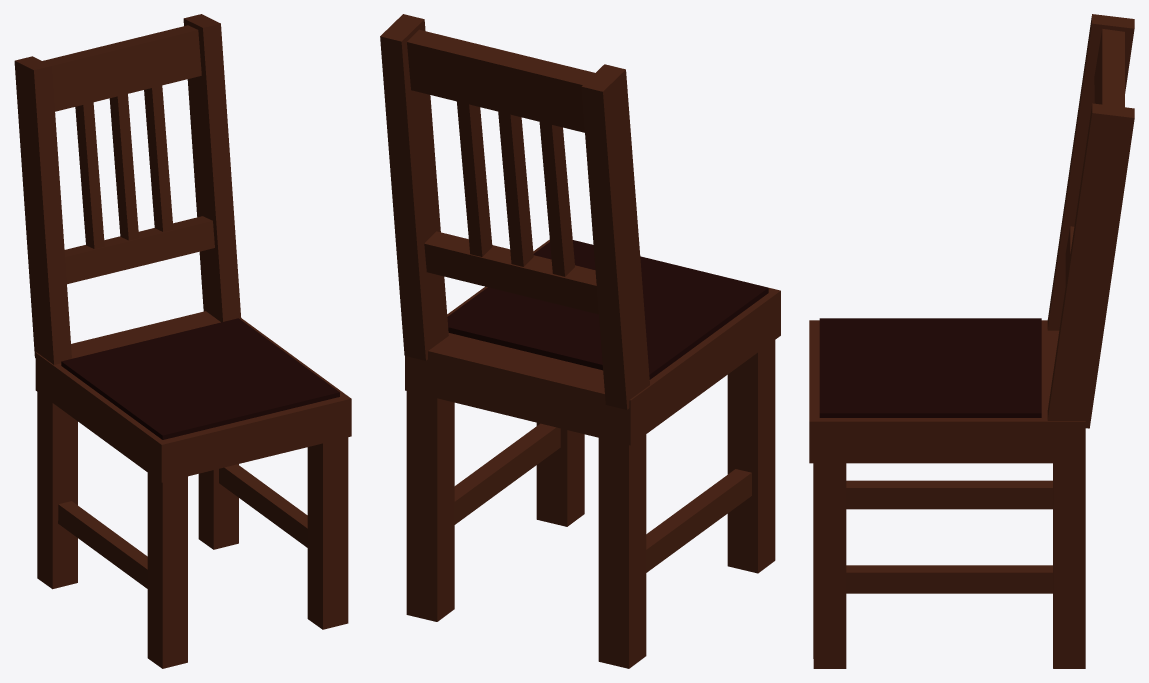
File: chair.obj
3 renders of one model, left to right at view 1: azimuth 30°, elevation 25°; view 2: azimuth 150°, elevation 25°; view 3: azimuth 270°, elevation 25°, orthographic. The views are drawn at different scales.
Parts seen in each view (by area): view 1: dessus_15, assise_5, Cube_3_1_2, Cube_3_1, Cube_3_3_4, Cube_6_1_10, Cube_6_3_12, Cube_6_2_11, Cube_3_2_3, Cube_6_4_13, Cube_6_5_14, Cube_3_4_6 (+3 smaller); view 2: assise_5, dessus_15, Cube_3_1_2, Cube_3_1, Cube_3_3_4, Cube_6_2_11, Cube_6_9, Cube_6_3_12, Cube_3_2_3, Cube_6_4_13, Cube_6_5_14, Cube_6_1_10 (+3 smaller); view 3: dessus_15, assise_5, Cube_3_1, Cube_6_1_10, Cube_6_9, Cube_6_4_13, Cube_6_5_14, Cube_3_1_2, Cube_3_3_4.
Boxes of the visible parts, x1=… form: dessus_15: x1=61, y1=318, x2=339, y2=439; assise_5: x1=35, y1=311, x2=351, y2=482; Cube_3_1_2: x1=14, y1=56, x2=71, y2=364; Cube_3_1: x1=183, y1=14, x2=241, y2=322; Cube_3_3_4: x1=42, y1=25, x2=201, y2=111; Cube_6_1_10: x1=307, y1=437, x2=348, y2=629; Cube_6_3_12: x1=147, y1=473, x2=187, y2=668; Cube_6_2_11: x1=37, y1=392, x2=77, y2=589; Cube_3_2_3: x1=64, y1=216, x2=214, y2=284; Cube_6_4_13: x1=58, y1=501, x2=147, y2=588; Cube_6_5_14: x1=219, y1=464, x2=307, y2=547; Cube_3_4_6: x1=75, y1=102, x2=104, y2=248; assise_5: x1=405, y1=239, x2=780, y2=445; dessus_15: x1=447, y1=240, x2=768, y2=379; Cube_3_1_2: x1=581, y1=64, x2=649, y2=409; Cube_3_1: x1=380, y1=14, x2=448, y2=360; Cube_3_3_4: x1=407, y1=29, x2=594, y2=132; Cube_6_2_11: x1=598, y1=434, x2=646, y2=668; Cube_6_9: x1=406, y1=391, x2=454, y2=621; Cube_6_3_12: x1=727, y1=340, x2=775, y2=573; Cube_3_2_3: x1=424, y1=231, x2=598, y2=314; Cube_6_4_13: x1=646, y1=469, x2=751, y2=572; Cube_6_5_14: x1=454, y1=423, x2=560, y2=524; Cube_6_1_10: x1=536, y1=422, x2=584, y2=526; dessus_15: x1=819, y1=318, x2=1041, y2=417; assise_5: x1=809, y1=320, x2=1085, y2=463; Cube_3_1: x1=1047, y1=103, x2=1134, y2=428; Cube_6_1_10: x1=813, y1=463, x2=846, y2=668; Cube_6_9: x1=1053, y1=463, x2=1085, y2=668; Cube_6_4_13: x1=846, y1=480, x2=1052, y2=509; Cube_6_5_14: x1=846, y1=565, x2=1052, y2=593; Cube_3_1_2: x1=1047, y1=14, x2=1134, y2=330; Cube_3_3_4: x1=1094, y1=29, x2=1124, y2=107.
Size of the model in its own units: 38.42 by 98.11 by 52.07.
